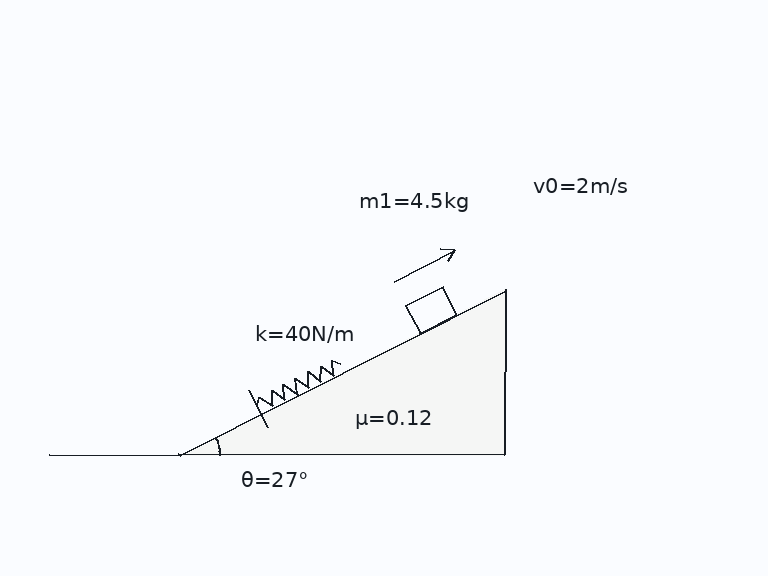block: (403, 285, 458, 335)
ramp: (178, 288, 506, 457)
spring: (255, 358, 343, 408)
